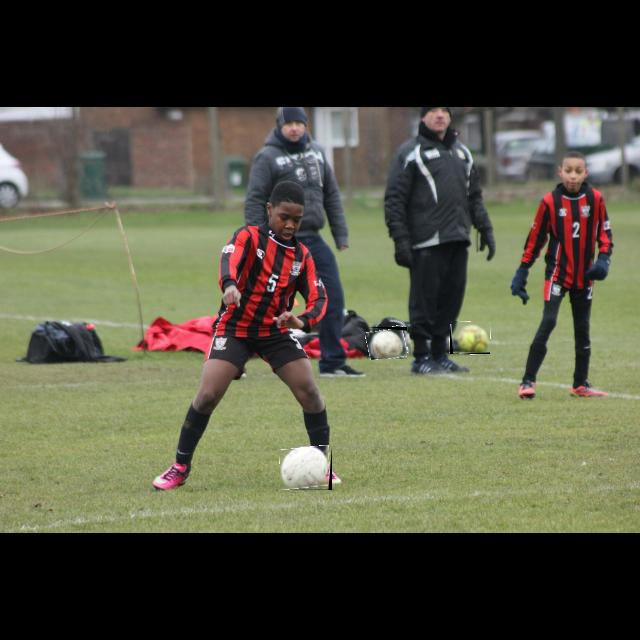Football: (280, 446, 332, 490), (367, 327, 407, 359), (450, 322, 490, 354)
